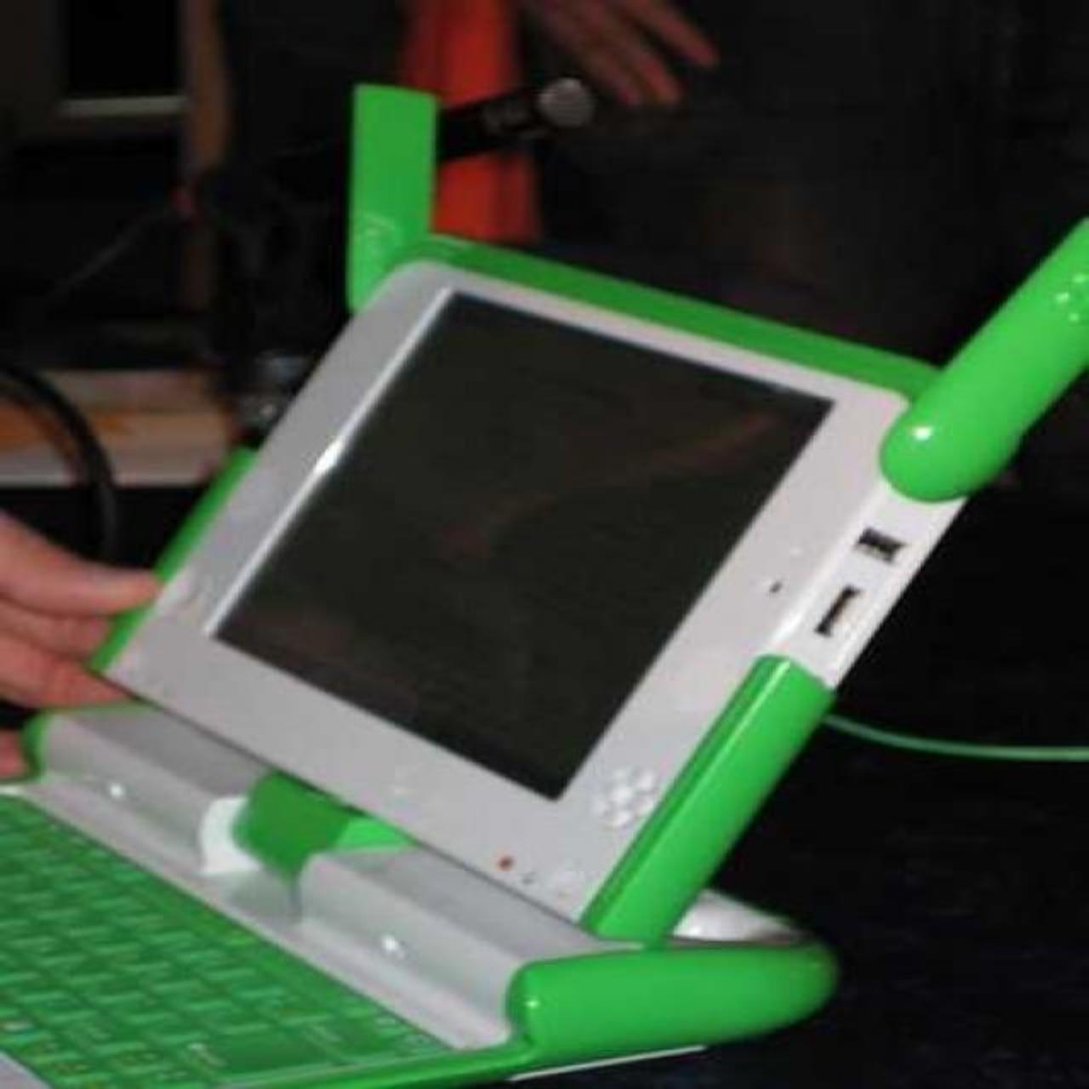laptop: (0, 298, 987, 1087)
